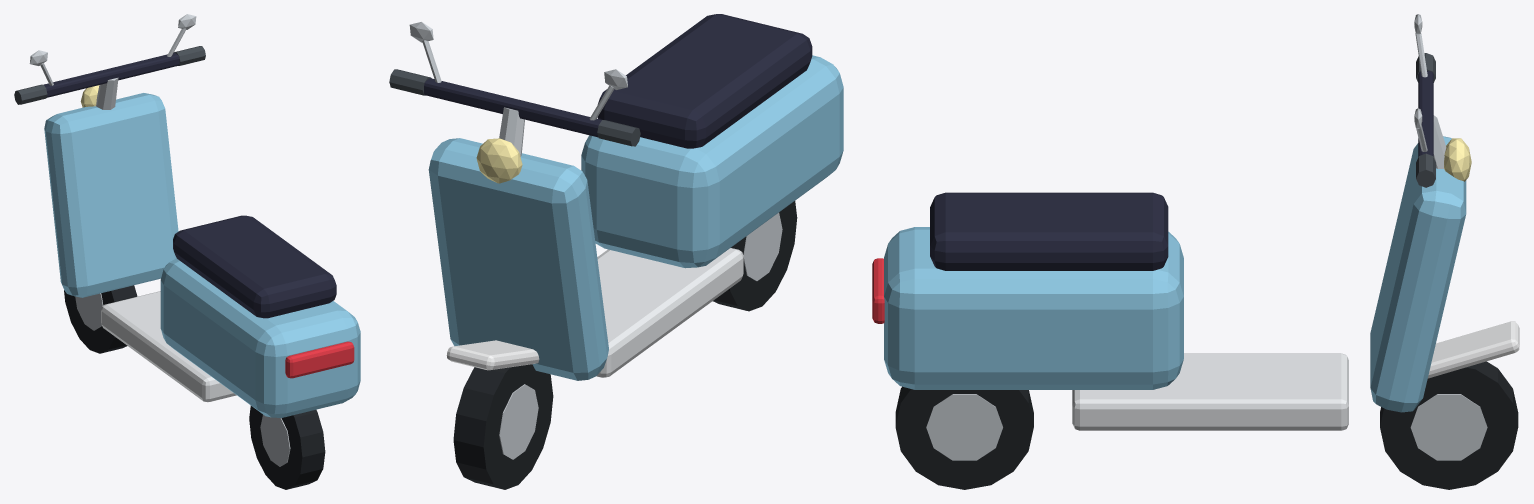
Rendered from hm_scooter.glb.
3 renders of one model, left to right at view 1: azimuth 30°, elevation 25°; view 2: azimuth 150°, elevation 25°; view 3: azimuth 270°, elevation 25°, orthographic. The views are drawn at different scales.
Parts seen in each view (by area): view 1: Cube.001, Cube.002, Cube.003, Cube, Cylinder.004, Cube.004, Cylinder.002, Cube.006, Cylinder.005, Cylinder.003, Cone, Cylinder (+1 smaller); view 2: Cube.001, Cube.002, Cube.003, Cube, Cylinder.002, Cube.004, Cylinder.004, Cylinder.003, Cube.005, Cylinder.005, Icosphere.002, Cylinder (+2 smaller); view 3: Cube.002, Cube.003, Cube, Cube.001, Cylinder.002, Cylinder.004, Cylinder.003, Cylinder.005, Cube.005, Cube.004, Icosphere.002, Cube.006.
Boxes of the visible parts, x1,y1,x2,y2 form: Cube.001: (44,93,178,297); Cube.002: (160,258,360,417); Cube.003: (173,215,336,318); Cube: (101,291,236,402); Cylinder.004: (249,405,325,489); Cube.004: (44,52,179,97); Cylinder.002: (64,285,137,353); Cube.006: (285,341,354,378); Cylinder.005: (260,414,290,466); Cylinder.003: (75,293,103,330); Cone: (96,77,118,109); Cylinder: (14,84,47,104); Cube.001: (428,138,608,380); Cube.002: (581,55,843,268); Cube.003: (597,14,812,148); Cube: (596,248,743,377); Cylinder.002: (453,364,553,489); Cube.004: (424,78,601,137); Cylinder.004: (713,201,797,311); Cylinder.003: (499,384,538,459); Cube.005: (446,340,539,370); Cylinder.005: (743,212,782,280); Icosphere.002: (476,138,522,183); Cylinder: (597,120,640,146); Cube.002: (884,227,1183,389); Cube.003: (930,192,1168,270); Cube: (1072,353,1348,430); Cube.001: (1370,136,1466,412); Cylinder.002: (1380,361,1518,489); Cylinder.004: (895,386,1033,489); Cylinder.003: (1410,394,1487,460); Cylinder.005: (926,394,1002,460); Cube.005: (1427,321,1519,378); Cube.004: (1418,71,1433,156); Icosphere.002: (1444,138,1471,181); Cube.006: (872,258,884,323).
Size of the model in its own units: 72 by 121 by 168.
